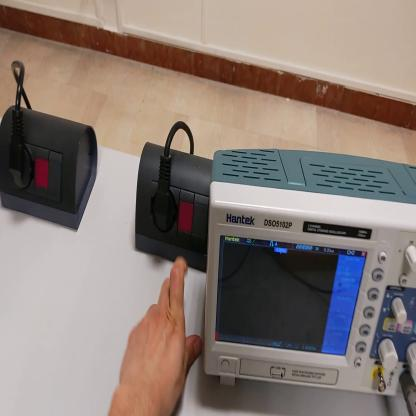hand: (110, 257, 204, 416)
oscilloscope: (206, 151, 416, 406)
socket: (135, 141, 214, 275)
